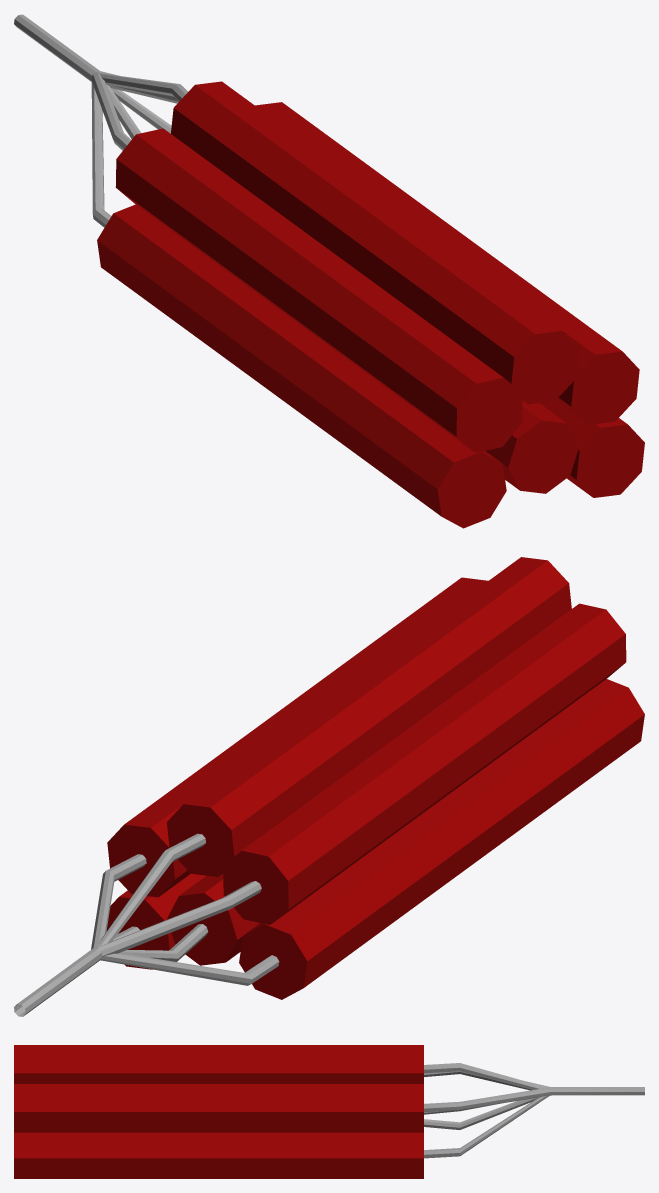
File: Dynamite_02.fbx
3 views of the same model, one above another, from view 1: azimuth 30°, elevation 25°; view 2: azimuth 150°, elevation 25°; view 3: azimuth 270°, elevation 25° (orthographic). The views are drawn at different scales.
Visible parts, largest first — view 1: Dynamite_02; view 2: Dynamite_02; view 3: Dynamite_02.
Boxes of the visible parts, x1,y1,x2,y2 form: Dynamite_02: (14,14,644,528); Dynamite_02: (14,557,644,1016); Dynamite_02: (14,1045,644,1178).
Bounding box in the file's own units: 15.14 × 12.65 × 66.34.
